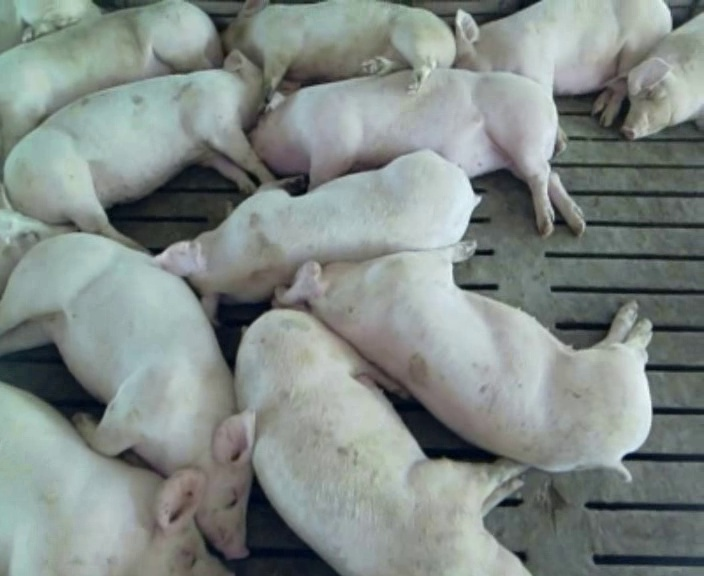pig: (278, 243, 651, 479), (0, 233, 252, 557), (235, 310, 527, 573), (251, 69, 584, 235), (155, 150, 478, 319), (4, 51, 273, 246), (0, 2, 222, 161), (223, 2, 455, 97), (0, 1, 100, 52)
